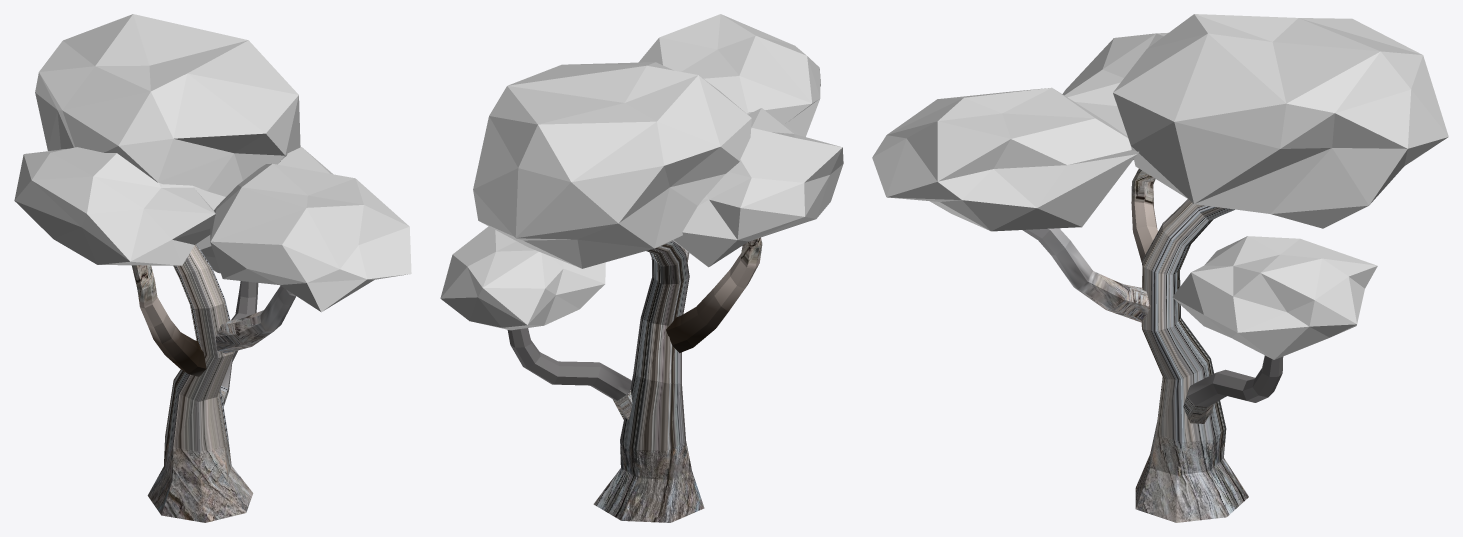
File: Tree_1_leaves.fbx
The picture shows the model from 3 angles, left to right: view 1: azimuth 30°, elevation 25°; view 2: azimuth 150°, elevation 25°; view 3: azimuth 270°, elevation 25°; orthographic projection. The views are drawn at different scales.
Parts seen in each view (by area): view 1: Icosphere.002, Cylinder.039; view 2: Icosphere.002, Cylinder.039; view 3: Icosphere.002, Cylinder.039.
Part boxes in pixels (x1=…): Icosphere.002: x1=14, y1=14, x2=411, y2=312; Cylinder.039: x1=131, y1=244, x2=296, y2=522; Icosphere.002: x1=440, y1=14, x2=843, y2=330; Cylinder.039: x1=507, y1=237, x2=762, y2=522; Icosphere.002: x1=872, y1=14, x2=1448, y2=359; Cylinder.039: x1=1022, y1=169, x2=1283, y2=522.
Bounding box in the file's own units: 641 × 833 × 943.
